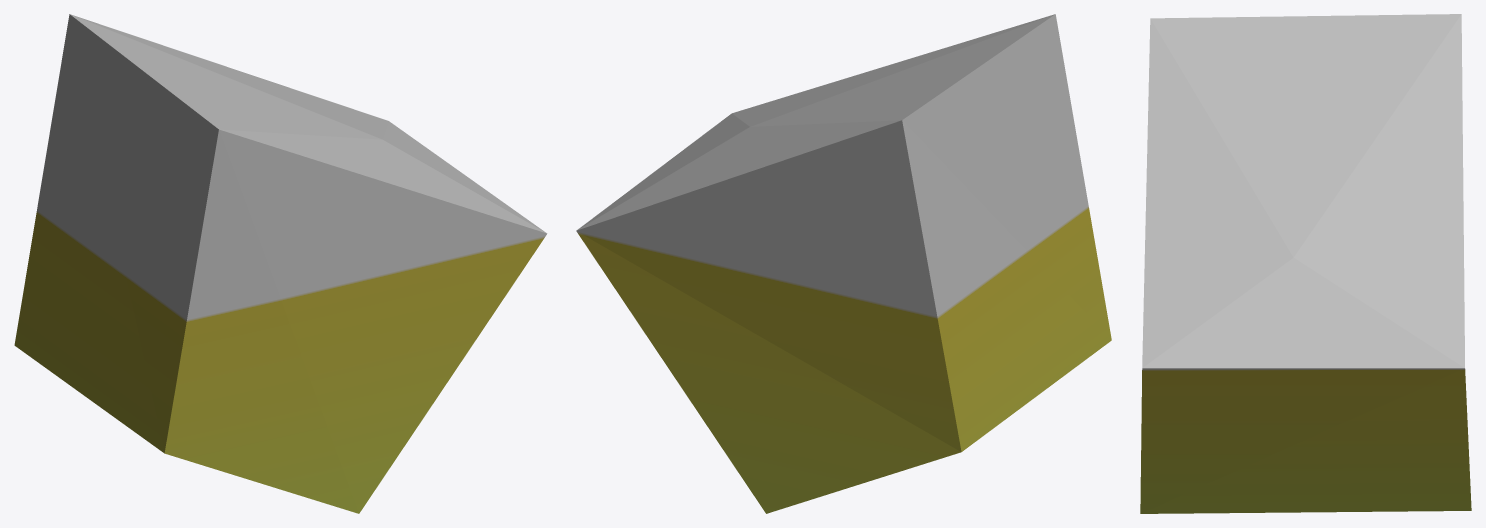
Rendered from Ruins_07.fbx.
3 renders of one model, left to right at view 1: azimuth 30°, elevation 25°; view 2: azimuth 150°, elevation 25°; view 3: azimuth 270°, elevation 25°, orthographic. The views are drawn at different scales.
Parts seen in each view (by area): view 1: Ruins_07; view 2: Ruins_07; view 3: Ruins_07.
Boxes of the visible parts, x1,y1,x2,y2 form: Ruins_07: [14, 14, 547, 513]; Ruins_07: [576, 14, 1111, 513]; Ruins_07: [1140, 14, 1471, 513].
Size of the model in its own units: 1.54 by 1.62 by 1.13.
